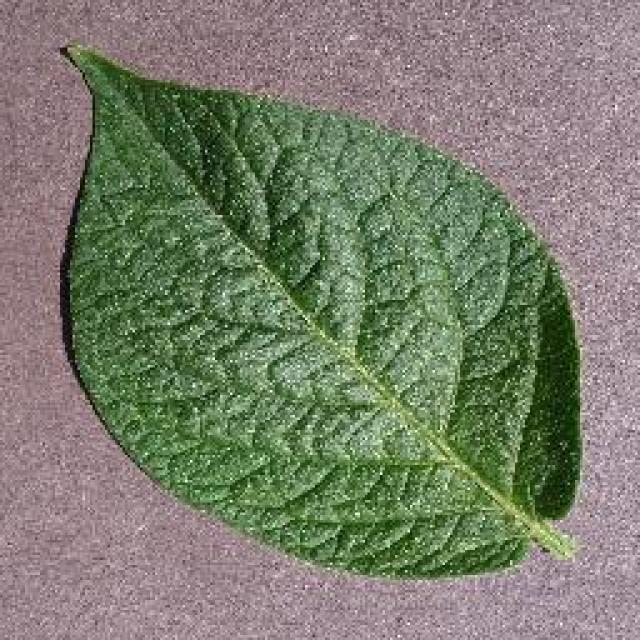healthy: (52, 37, 588, 585)
